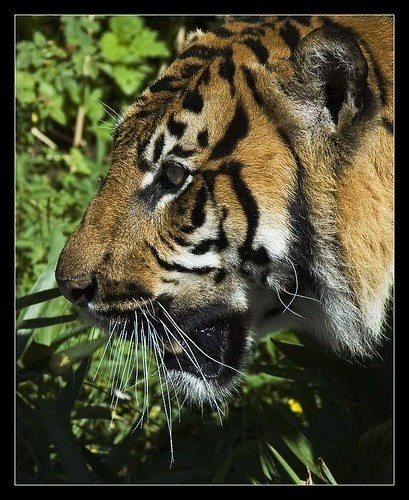tigre: (54, 15, 395, 411)
